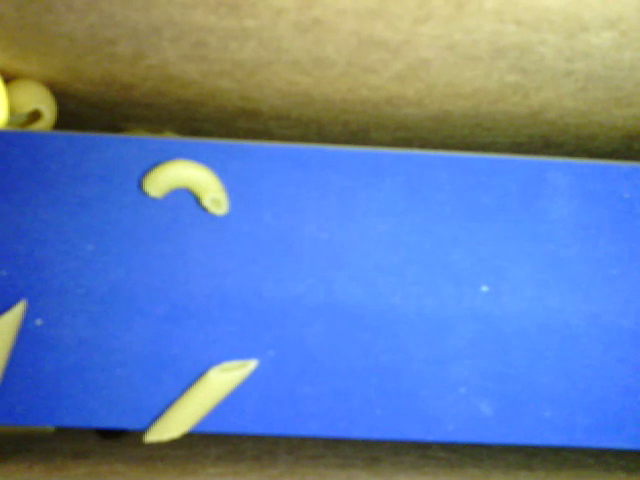elbow: (139, 158, 229, 217)
penne: (144, 358, 259, 445), (2, 297, 28, 380)
shell: (2, 78, 58, 136)
